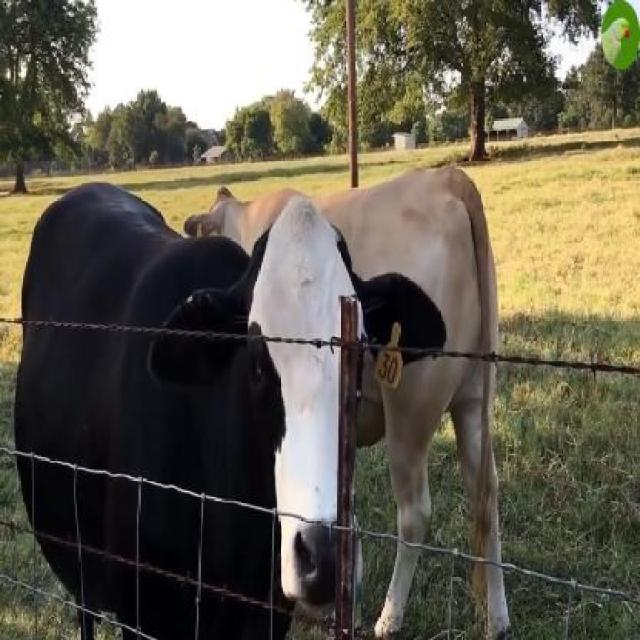Cow: (14, 183, 449, 639)
